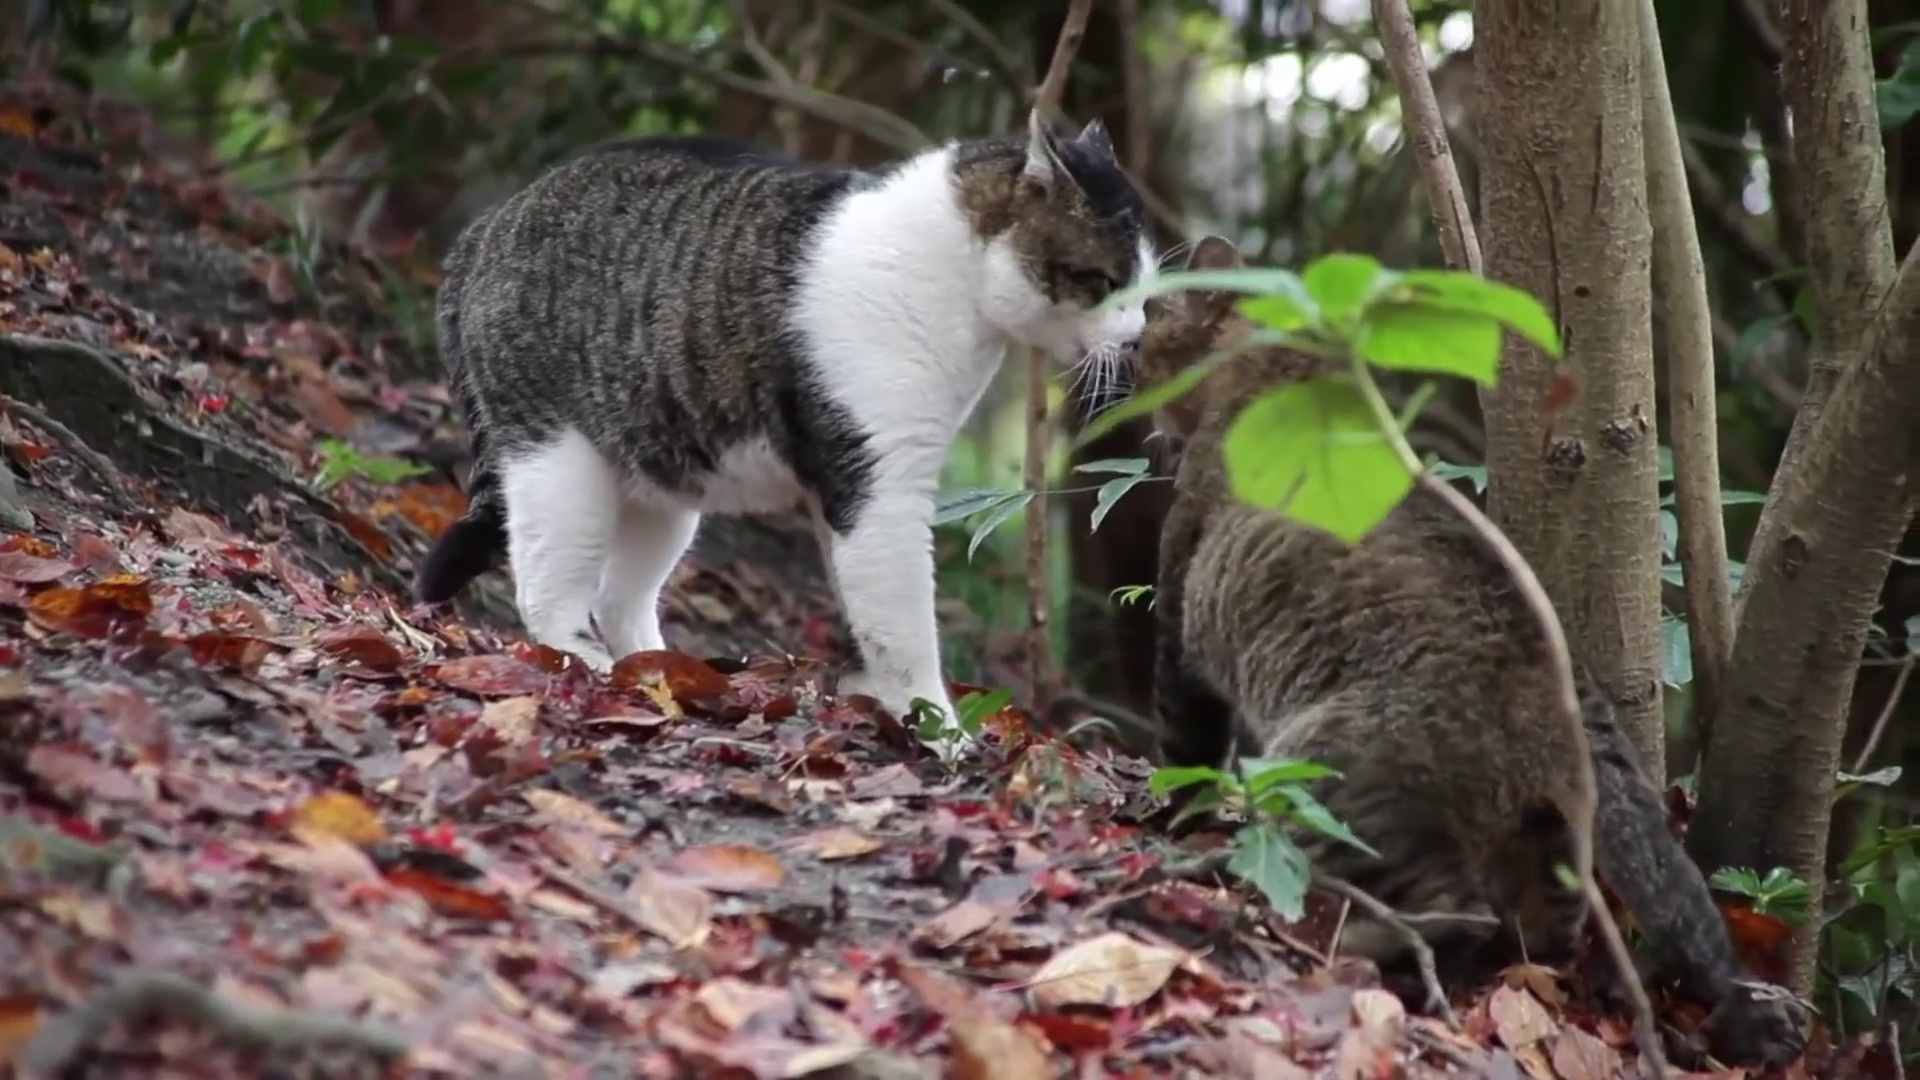black-white: (434, 108, 1156, 753)
pure black: (1139, 235, 1596, 964)
